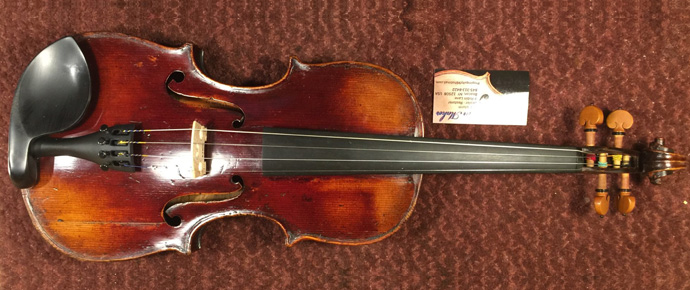Fiddle: (22, 33, 685, 256)
